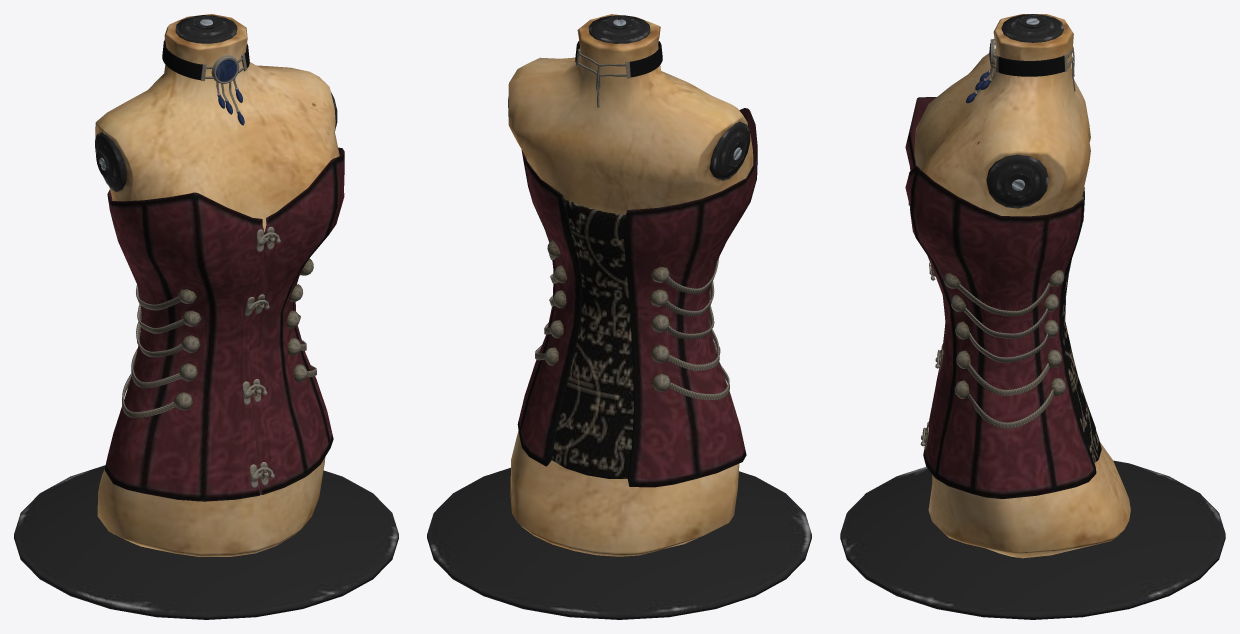
The model's file is khronos-corset.glb.
3 renders of one model, left to right at view 1: azimuth 30°, elevation 25°; view 2: azimuth 150°, elevation 25°; view 3: azimuth 270°, elevation 25°, orthographic.
Visible parts, largest first — view 1: Corset; view 2: Corset; view 3: Corset.
Boxes of the visible parts, x1,y1,x2,y2 form: Corset: [14, 14, 398, 619]; Corset: [427, 14, 811, 619]; Corset: [840, 14, 1225, 619].
Size of the model in its own units: 0.0389 by 0.0578 by 0.0389.
Materials: 1 (1 with a texture image).
